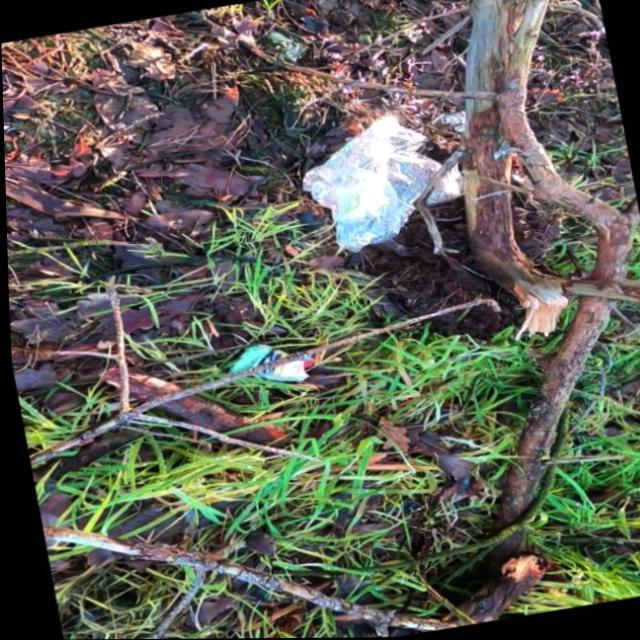Paper: (223, 340, 317, 386)
